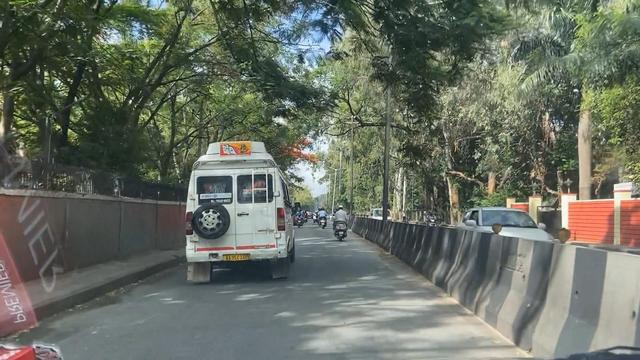HMV: (187, 143, 286, 281)
LMV: (335, 205, 348, 243), (316, 207, 326, 228)
